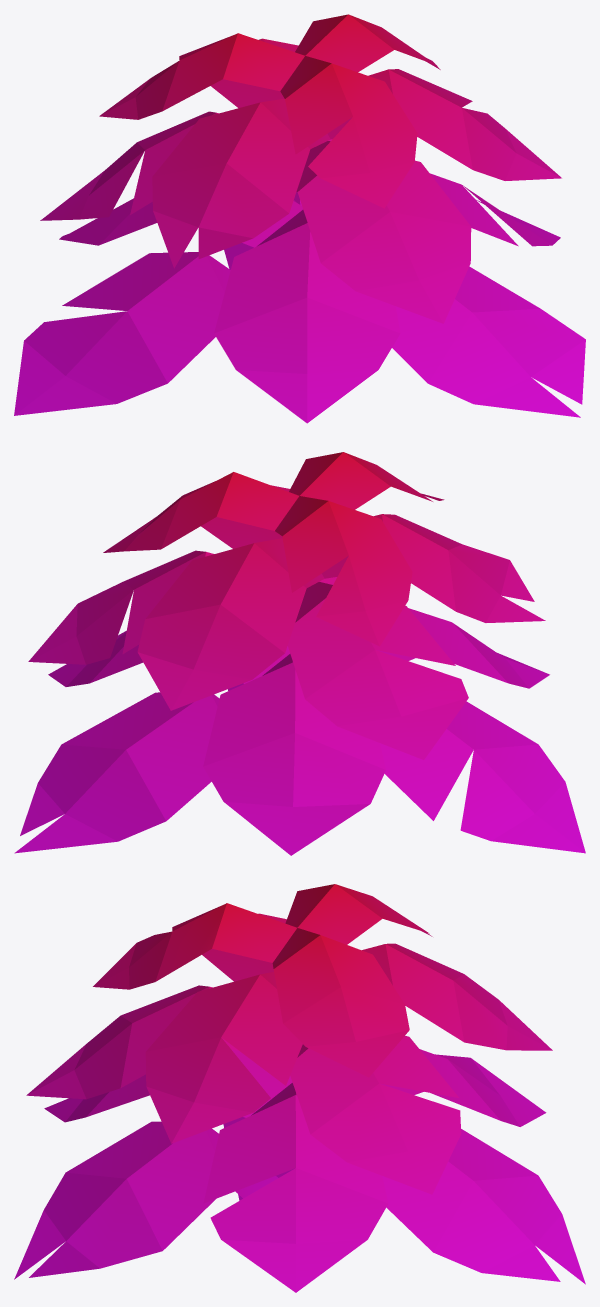
The model's file is SM_Plant_Fern_02.gltf.
3 views of the same model, one above another, from view 1: azimuth 30°, elevation 25°; view 2: azimuth 150°, elevation 25°; view 3: azimuth 270°, elevation 25° (orthographic).
Visible parts, largest first — view 1: SM_Plant_Fern_02; view 2: SM_Plant_Fern_02; view 3: SM_Plant_Fern_02.
Part boxes in pixels (bbox=[...]): SM_Plant_Fern_02: bbox=[14, 14, 585, 423]; SM_Plant_Fern_02: bbox=[14, 452, 585, 855]; SM_Plant_Fern_02: bbox=[14, 884, 585, 1292].
Bounding box in the file's own units: 1.15 × 0.6338 × 1.05.
